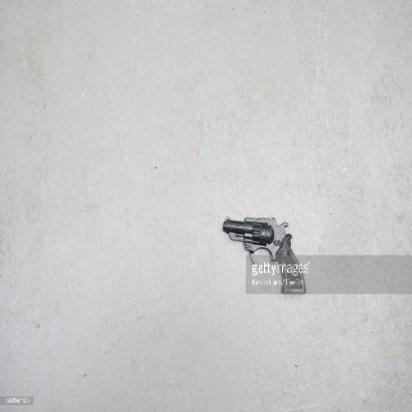Gun: (215, 213, 313, 295)
